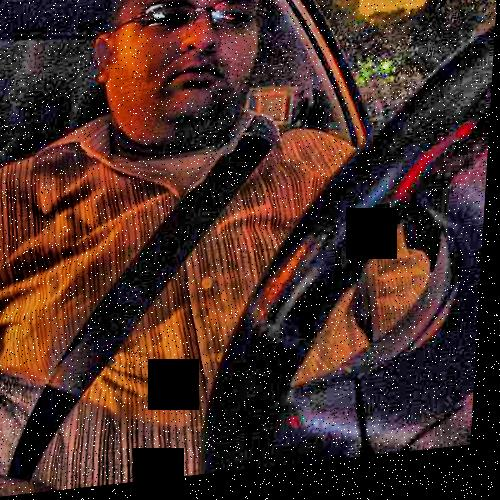seatbelt: (20, 106, 288, 438)
